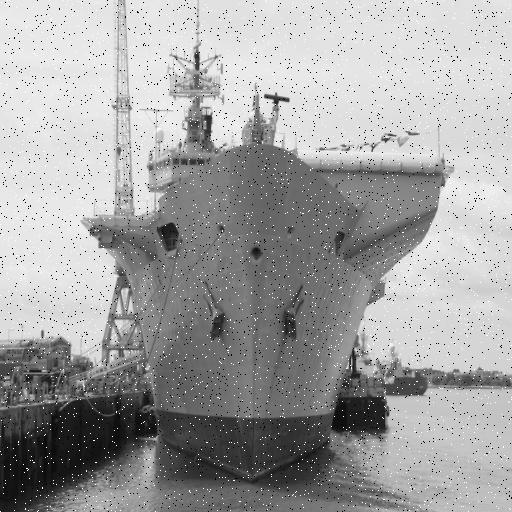Portanaves: (81, 30, 458, 487)
